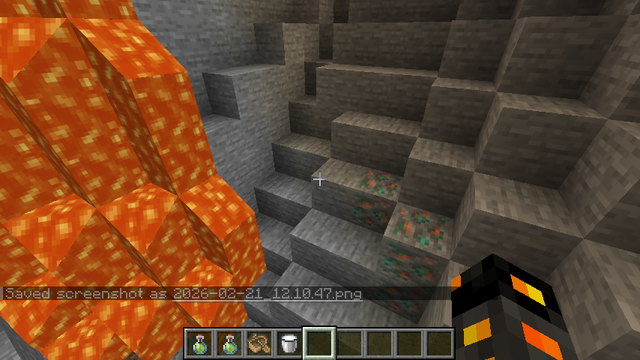cooper: (351, 163, 449, 324)
